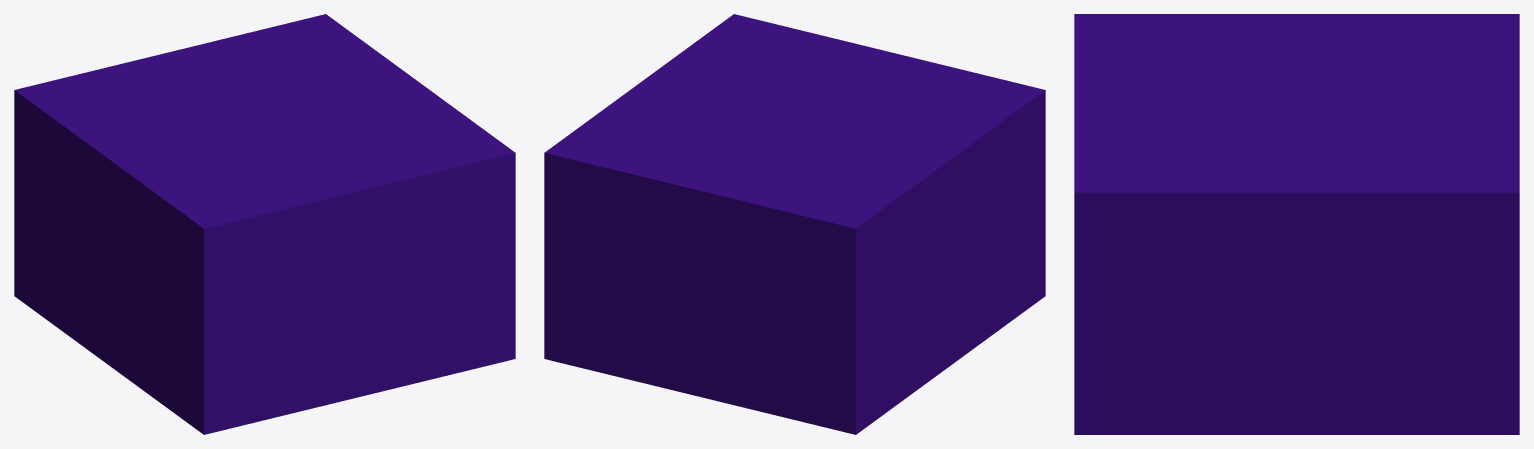
Rendered from canopytree_LODnullTest.DAE.
3 views of the same model, side by side, from view 1: azimuth 30°, elevation 25°; view 2: azimuth 150°, elevation 25°; view 3: azimuth 270°, elevation 25° (orthographic). The views are drawn at different scales.
Parts seen in each view (by area): view 1: bounds; view 2: bounds; view 3: bounds.
Boxes of the visible parts, x1=… form: bounds: x1=14, y1=14, x2=515, y2=434; bounds: x1=544, y1=14, x2=1045, y2=434; bounds: x1=1074, y1=14, x2=1519, y2=434.
Bounding box in the file's own units: 30.47 × 32.12 × 20.22.
